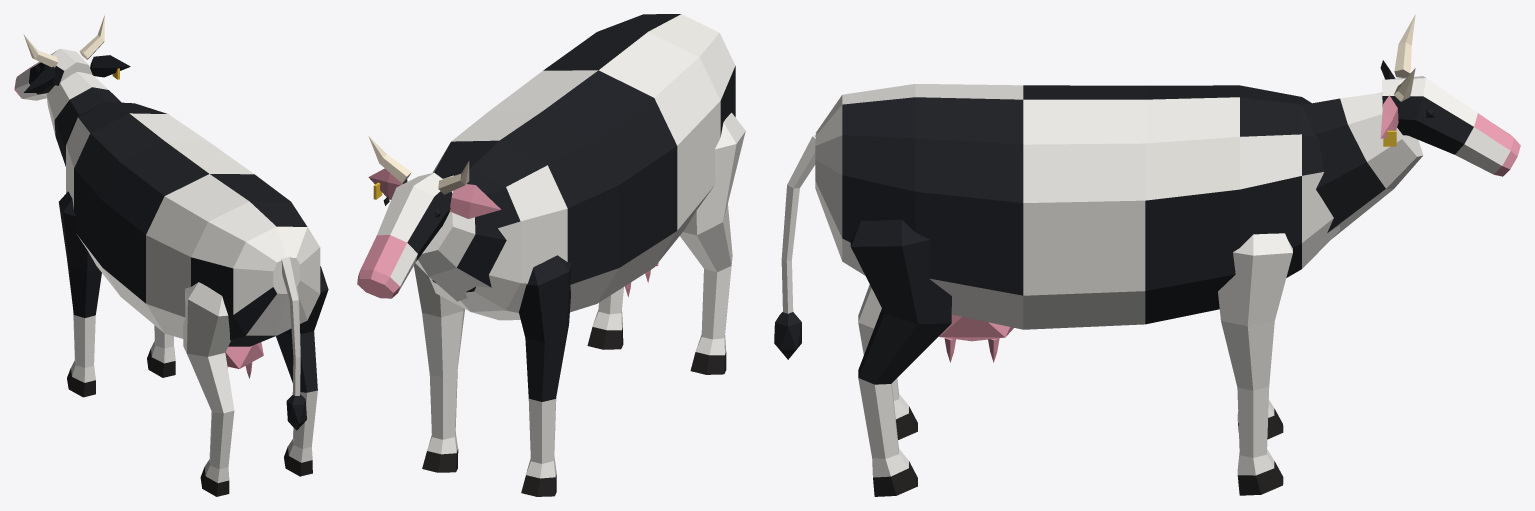
Rendered from cow.glb.
The picture shows the model from 3 angles, left to right: view 1: azimuth 30°, elevation 25°; view 2: azimuth 150°, elevation 25°; view 3: azimuth 270°, elevation 25°; orthographic projection. The views are drawn at different scales.
Visible parts, largest first — view 1: Body, Leg_RL, Head, Leg_FL, Leg_RR, Tail, Leg_FR; view 2: Body, Head, Leg_FL, Leg_RL, Leg_FR, Leg_RR; view 3: Body, Head, Leg_RR, Leg_FR, Tail, Leg_RL.
Part boxes in pixels (x1,y1,x2,y2): Body: (66, 102, 320, 378); Leg_RL: (183, 282, 234, 496); Head: (14, 15, 130, 166); Leg_FL: (58, 191, 101, 397); Leg_RR: (276, 266, 328, 476); Tail: (281, 257, 306, 430); Leg_FR: (147, 325, 175, 377); Body: (429, 14, 735, 320); Head: (357, 136, 506, 301); Leg_FL: (519, 255, 571, 496); Leg_RL: (680, 112, 745, 374); Leg_FR: (414, 263, 464, 472); Leg_RR: (587, 287, 623, 349); Body: (815, 84, 1339, 362); Head: (1303, 14, 1520, 238); Leg_RR: (850, 219, 951, 496); Leg_FR: (1218, 233, 1292, 495); Tail: (774, 133, 816, 359); Leg_RL: (858, 284, 917, 439).
Size of the model in its own units: 0.767 by 1.73 by 2.76.
